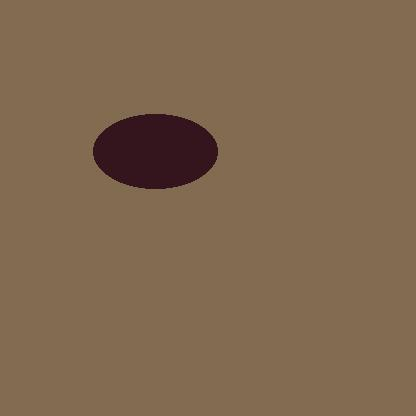pothole: (93, 114, 217, 188)
